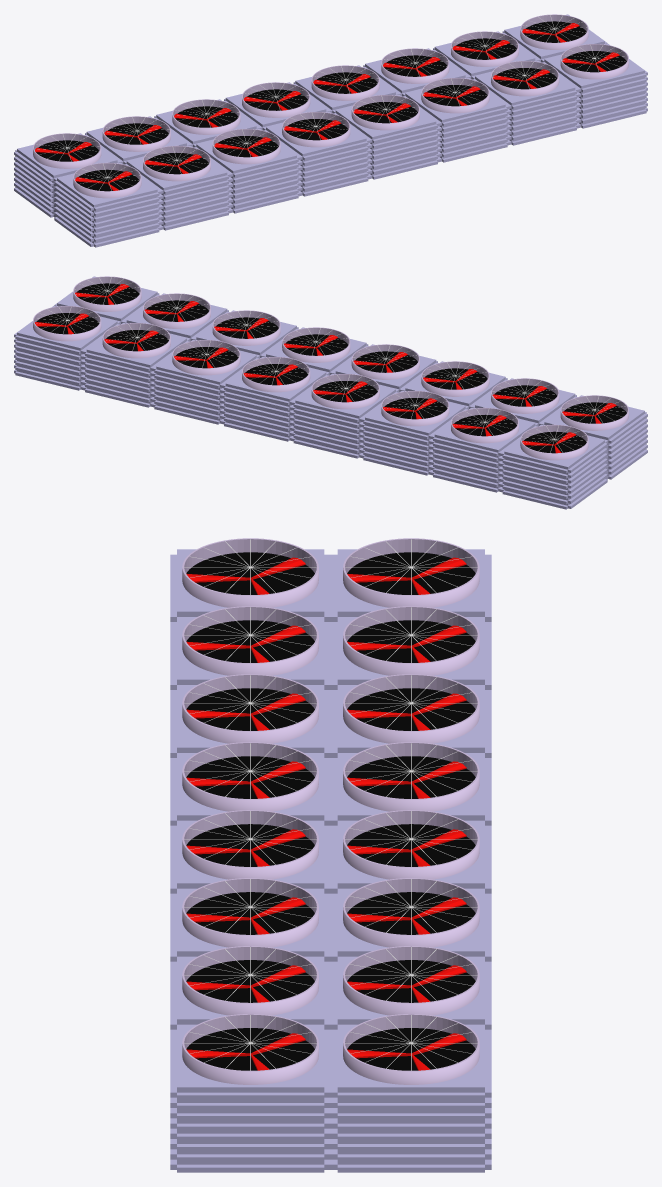
File: KintiniiKattoTuuletinCoolAir2x8.fbx
3 renders of one model, top to bottom at view 1: azimuth 30°, elevation 25°; view 2: azimuth 150°, elevation 25°; view 3: azimuth 270°, elevation 25°, orthographic. The views are drawn at different scales.
Parts seen in each view (by area): view 1: Cube; view 2: Cube; view 3: Cube.
Boxes of the visible parts, left/top/right/bottom form: Cube: left=14, top=14, right=647, bottom=247; Cube: left=14, top=276, right=647, bottom=509; Cube: left=170, top=538, right=491, bottom=1172.
Bounding box in the file's own units: 1747 × 144 × 437.
